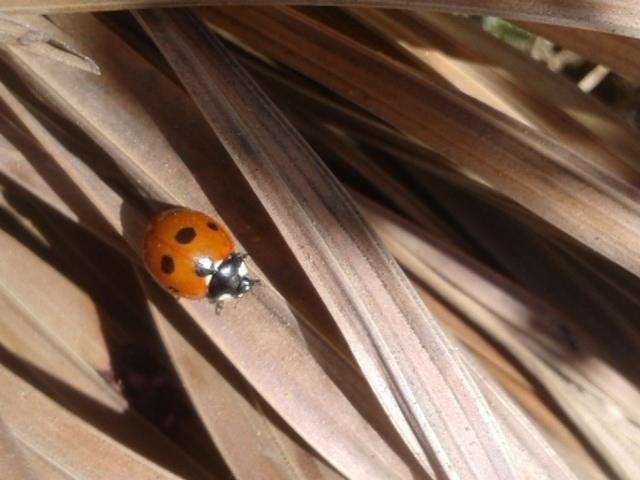ladybug: (139, 205, 265, 319)
